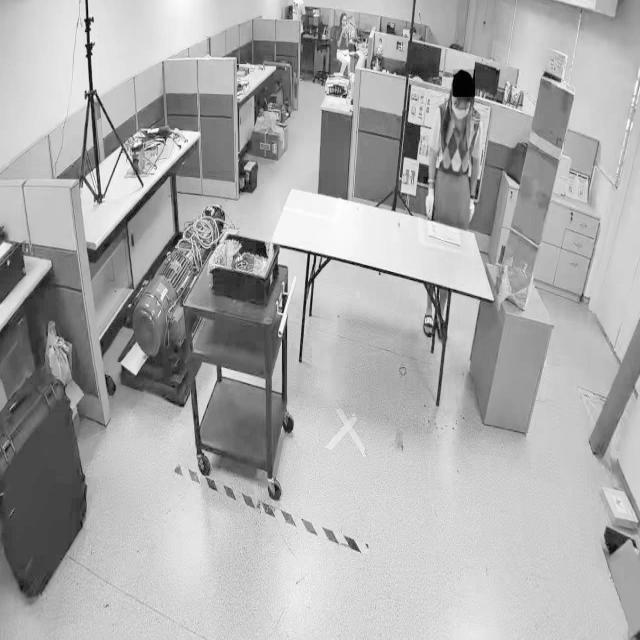hand_glove: (423, 177, 438, 223), (464, 188, 482, 224)
head_nohelmet: (453, 69, 475, 98), (340, 11, 348, 17)
person: (421, 73, 493, 224), (330, 10, 354, 82)
